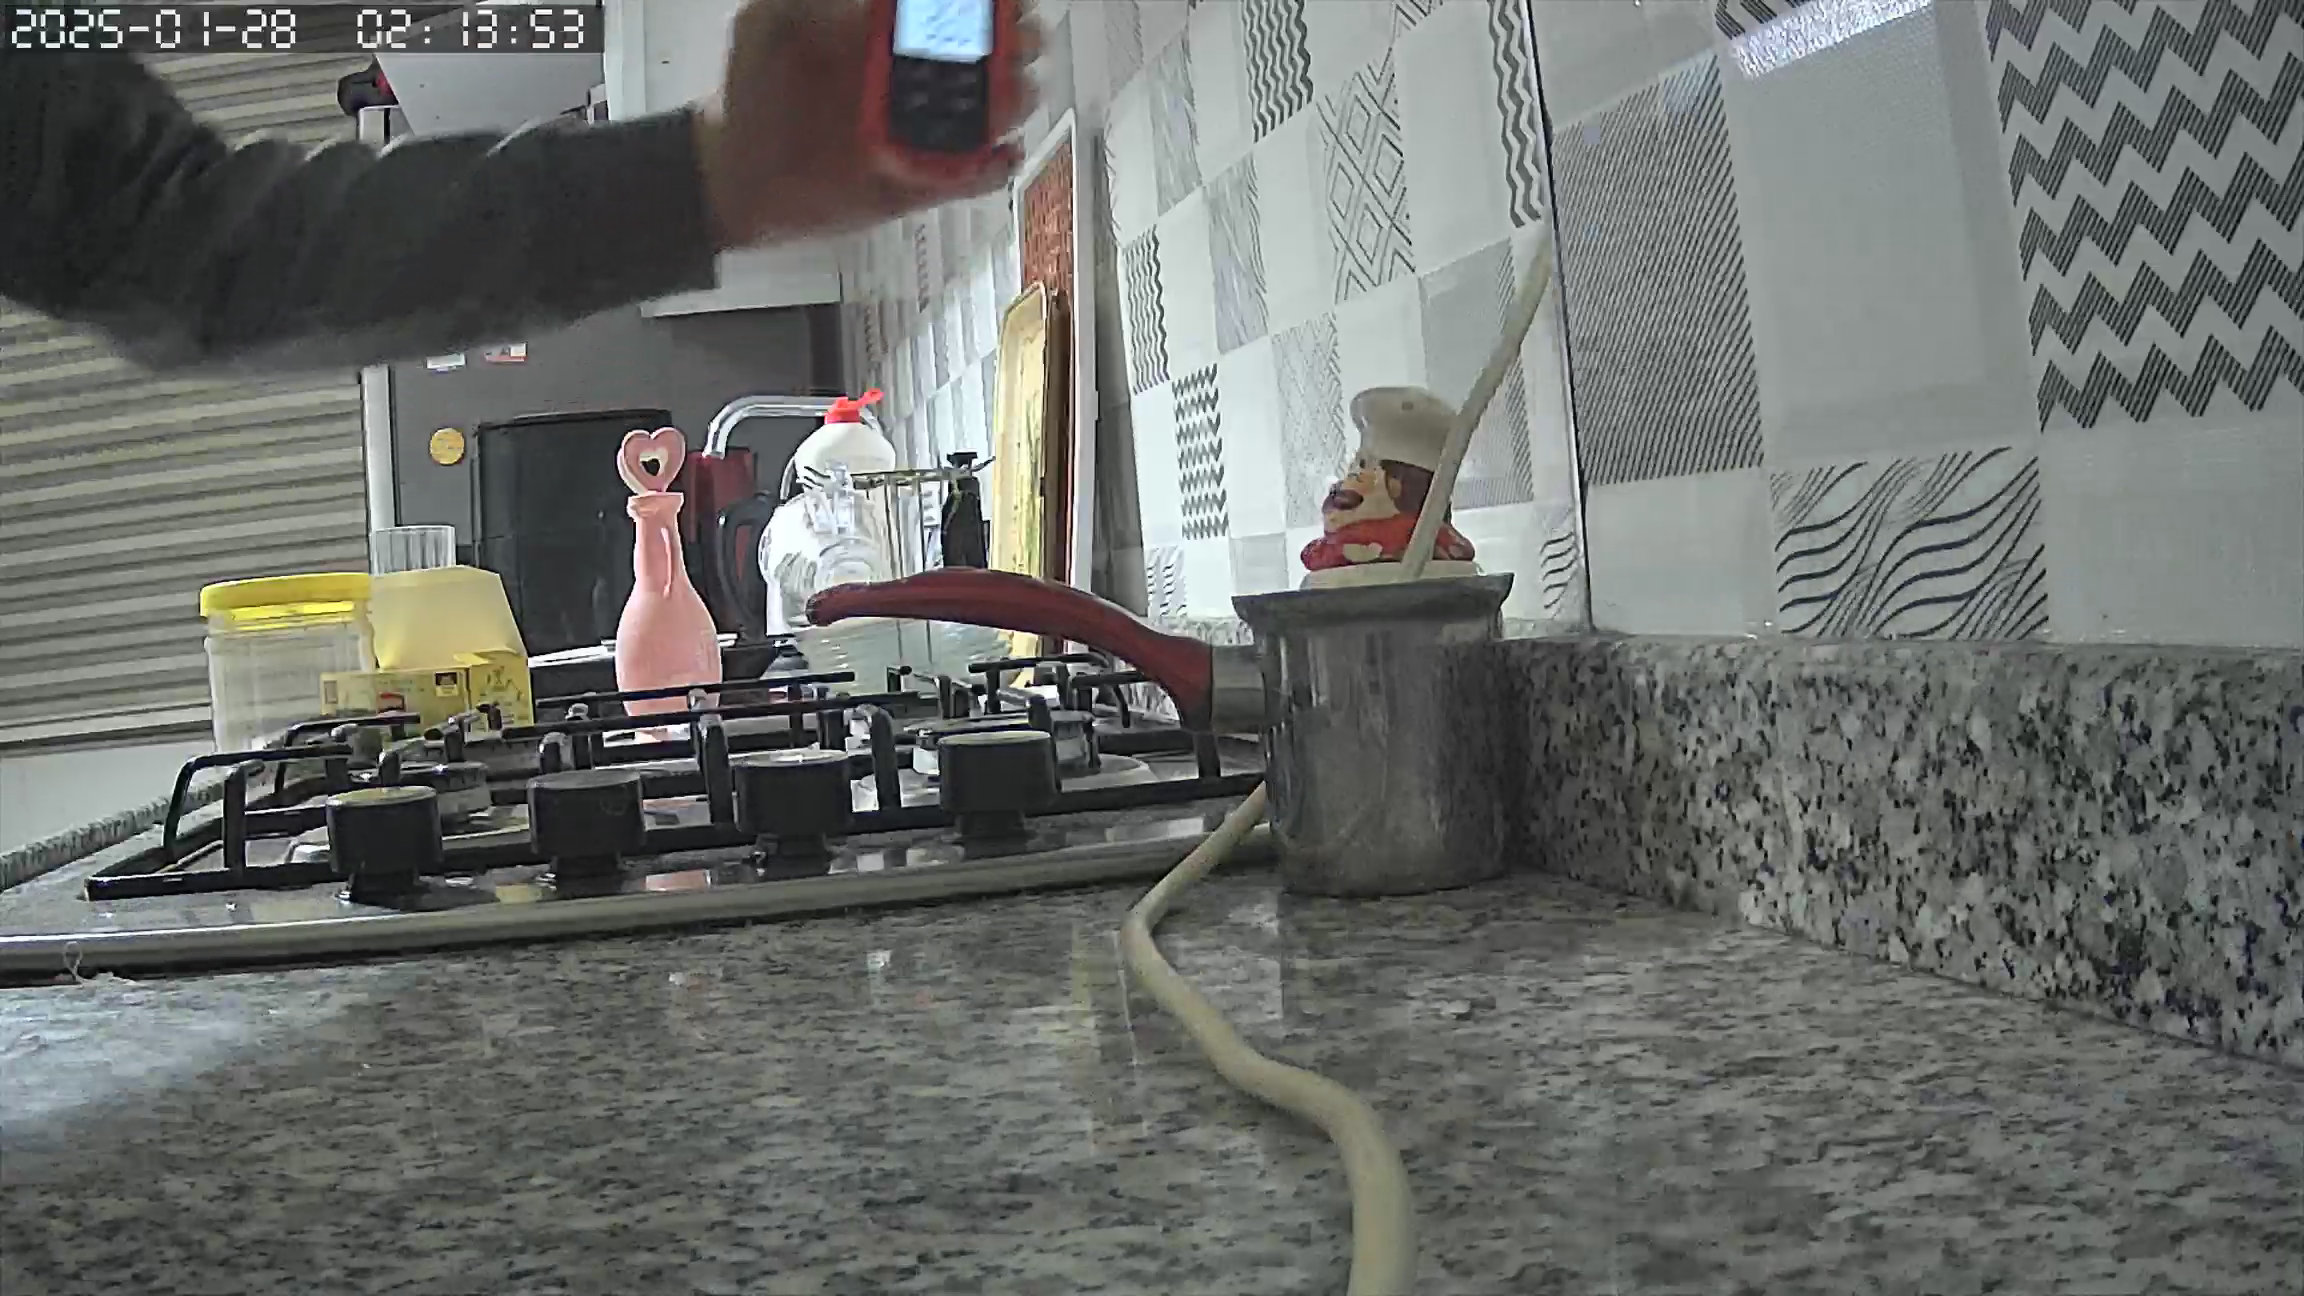screen: (889, 2, 995, 66)
